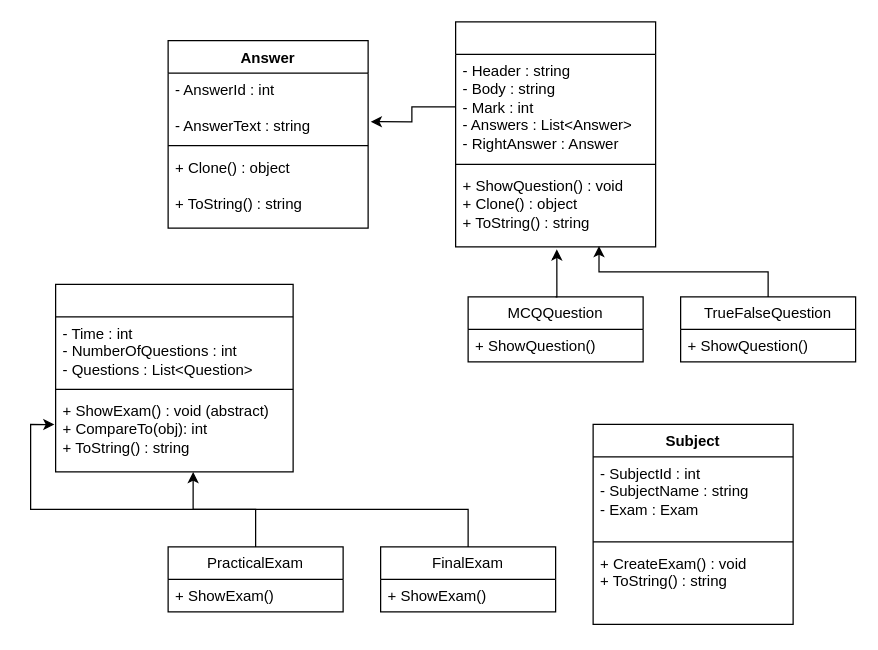
The diagram is 878 pixels wide and 650 high, and some of its shapes have lost their labels. The shapes that lost their labels are listed below. From the top down, each one's box as (x1, y1, x2, y2) in pixels, then its label:
(454, 21, 656, 247): Question (abstract)
(54, 283, 293, 472): Exam (abstract)
